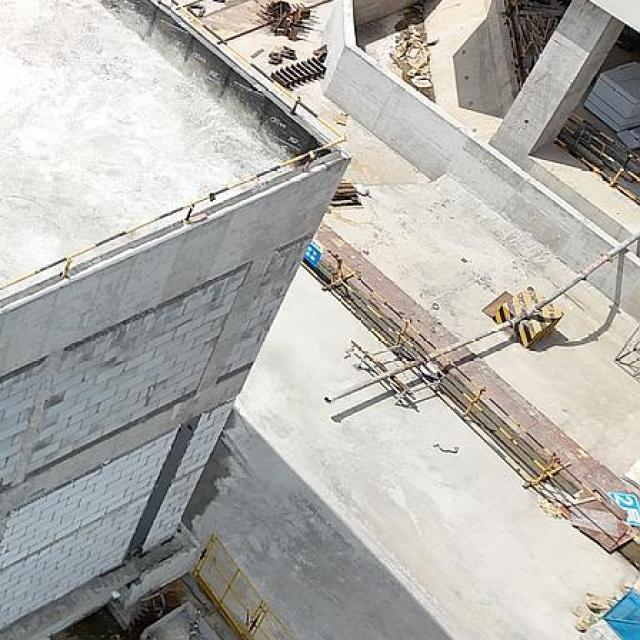edge_guardrail: (0, 0, 349, 290), (554, 111, 640, 203), (504, 0, 540, 89)
